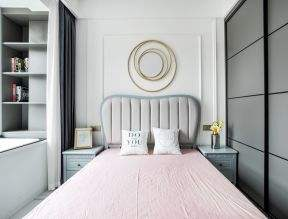床: (25, 149, 264, 216)
枕头: (116, 128, 181, 154)
